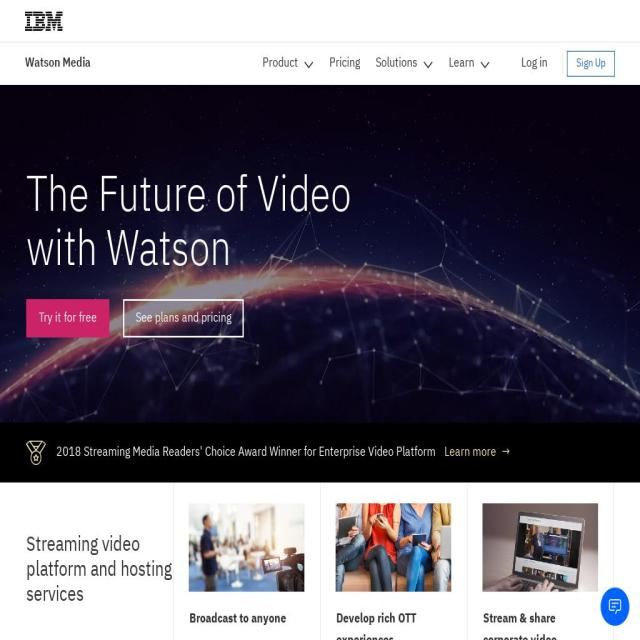button: (173, 482, 320, 640), (320, 482, 467, 640), (467, 482, 614, 640), (123, 299, 244, 338), (26, 299, 110, 338), (25, 43, 96, 84), (376, 43, 433, 84), (262, 43, 314, 84), (449, 43, 490, 84), (25, 0, 63, 42), (444, 441, 510, 464), (329, 43, 360, 84), (567, 51, 615, 77), (600, 586, 630, 626), (522, 43, 548, 84)
heading: (26, 172, 352, 222), (26, 532, 173, 608), (27, 226, 232, 276), (336, 607, 451, 640), (483, 607, 597, 640), (190, 608, 304, 630)
image: (0, 85, 640, 423), (189, 503, 304, 592), (336, 503, 451, 592), (483, 503, 598, 592), (25, 11, 63, 31), (609, 598, 621, 615)
text: (56, 442, 436, 463), (25, 57, 96, 70)
